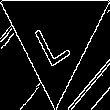L_NW: (32, 7, 78, 67)
